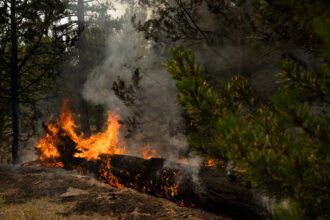fire: (97, 124, 235, 209), (33, 98, 137, 194)
